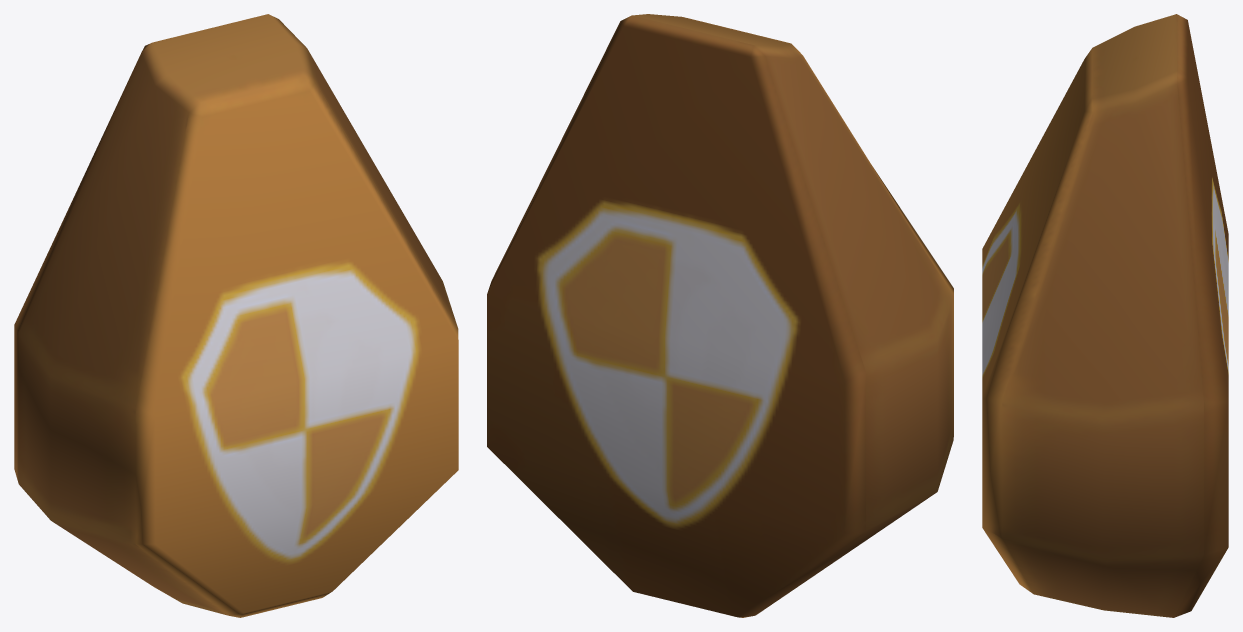
File: Item_Shield.fbx
3 renders of one model, left to right at view 1: azimuth 30°, elevation 25°; view 2: azimuth 150°, elevation 25°; view 3: azimuth 270°, elevation 25°, orthographic. The views are drawn at different scales.
Visible parts, largest first — view 1: Item_Shield_0_mesh; view 2: Item_Shield_0_mesh; view 3: Item_Shield_0_mesh.
Part boxes in pixels (box(x1,y1,x2,y2)): Item_Shield_0_mesh: box(14, 14, 458, 617); Item_Shield_0_mesh: box(487, 14, 953, 617); Item_Shield_0_mesh: box(982, 14, 1228, 617).
Size of the model in its own units: 50.8 by 67.94 by 27.46.
